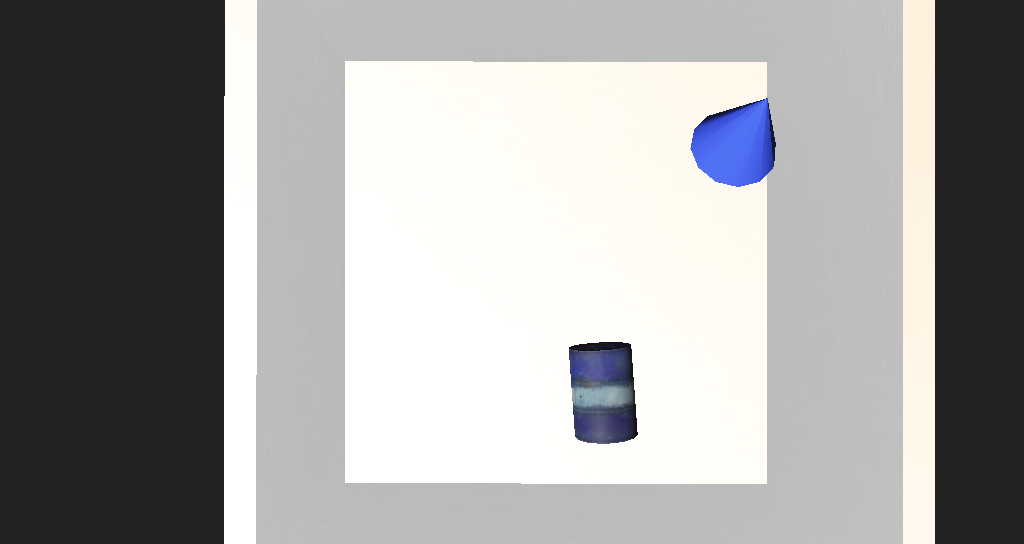cone: (512, 303, 566, 356)
cylinder: (600, 165, 680, 227)
sphere: (333, 420, 421, 477)
